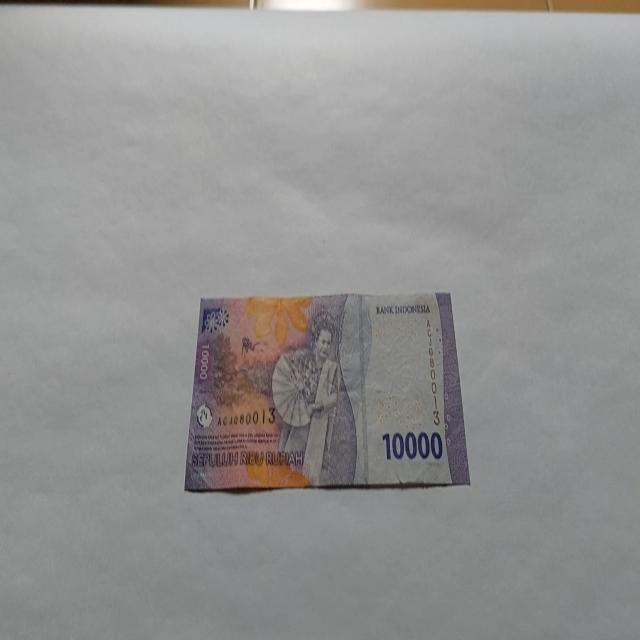sepuluh ribu rupiah: (183, 290, 471, 493)
